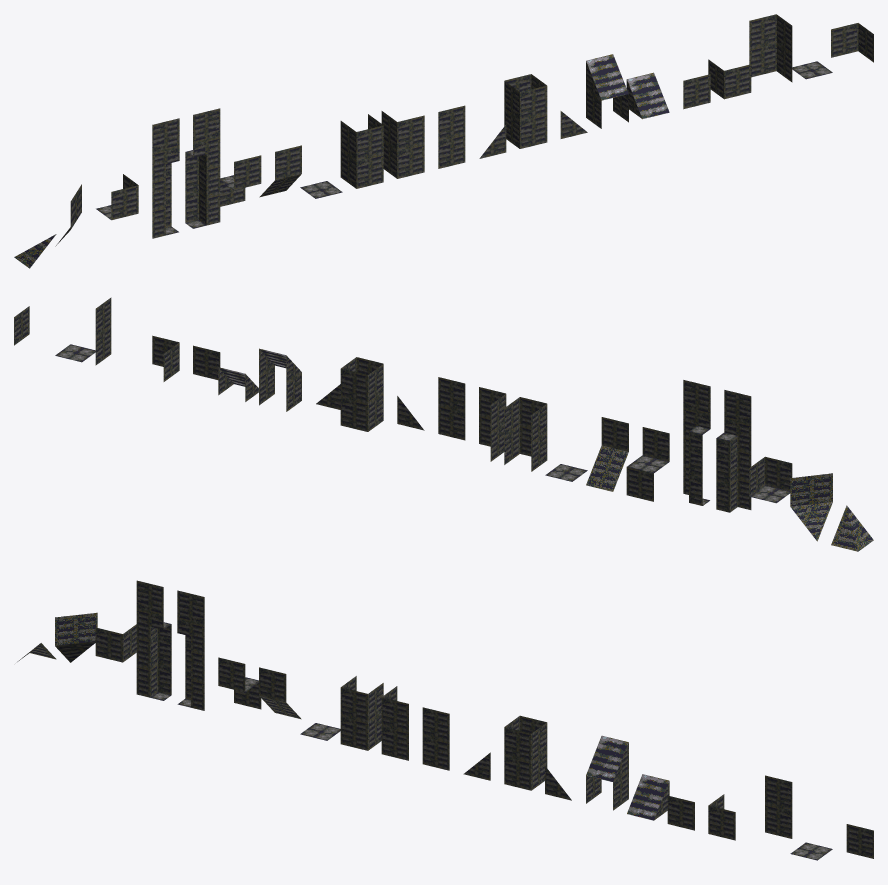
The model's file is handsTileSet3.glb.
3 views of the same model, one above another, from view 1: azimuth 30°, elevation 25°; view 2: azimuth 150°, elevation 25°; view 3: azimuth 330°, elevation 25° (orthographic).
Parts seen in each view (by area): view 1: door2-col.001, wall2-col.001, door2-col, wall2-col.005, wall2-col.009, wall2-col.002, wall2-col.003, wall2-col.008, wall2-col.004, floor-col.004, wall2-col.007, wall2-col.010 (+3 smaller); view 2: door2-col, wall2-col.001, door2-col.001, wall2-col.005, wall1-col, floor-col.004, wall1-col.002, floor-col.001, wall2-col.002, wall2-col.003, wall2-col.008, wall1-col.003 (+4 smaller); view 3: door2-col, wall2-col.001, door2-col.001, wall2-col.005, wall2-col.003, wall2-col.002, wall1-col, wall2-col.009, wall2-col.008, wall2-col.004, floor-col.004, floor-col.001 (+4 smaller).
Part boxes in pixels (x1,y1,x2,y2): door2-col.001: (185, 108, 220, 228); wall2-col.001: (504, 74, 547, 148); door2-col: (152, 118, 179, 238); wall2-col.005: (340, 114, 383, 188); wall2-col.009: (749, 14, 792, 82); wall2-col.002: (381, 111, 424, 178); wall2-col.003: (586, 54, 628, 128); wall2-col.008: (438, 105, 465, 168); wall2-col.004: (626, 72, 669, 119); floor-col.004: (220, 155, 261, 206); wall2-col.007: (708, 59, 751, 99); wall2-col.010: (831, 23, 873, 62); door2-col: (716, 390, 751, 512); wall2-col.001: (340, 357, 383, 431); door2-col.001: (683, 380, 710, 505); wall2-col.005: (504, 397, 547, 471); wall1-col: (790, 473, 832, 541); floor-col.004: (626, 427, 669, 501); wall1-col.002: (586, 417, 628, 491); floor-col.001: (749, 456, 792, 503); wall2-col.002: (479, 387, 506, 461); wall2-col.003: (259, 348, 301, 411); wall2-col.008: (438, 377, 465, 440); wall1-col.003: (831, 505, 873, 551); door2-col: (136, 580, 171, 700); wall2-col.001: (504, 715, 547, 790); door2-col.001: (177, 590, 204, 710); wall2-col.005: (340, 676, 383, 750); wall2-col.003: (586, 735, 628, 810); wall2-col.002: (381, 686, 408, 760); wall1-col: (55, 612, 97, 662); wall2-col.009: (765, 775, 792, 838); wall2-col.008: (422, 707, 449, 770); wall2-col.004: (627, 774, 669, 820); floor-col.004: (218, 657, 261, 709); floor-col.001: (95, 624, 136, 662).
Size of the model in its own units: 62 by 8 by 2.
1 material, 1 textured.
